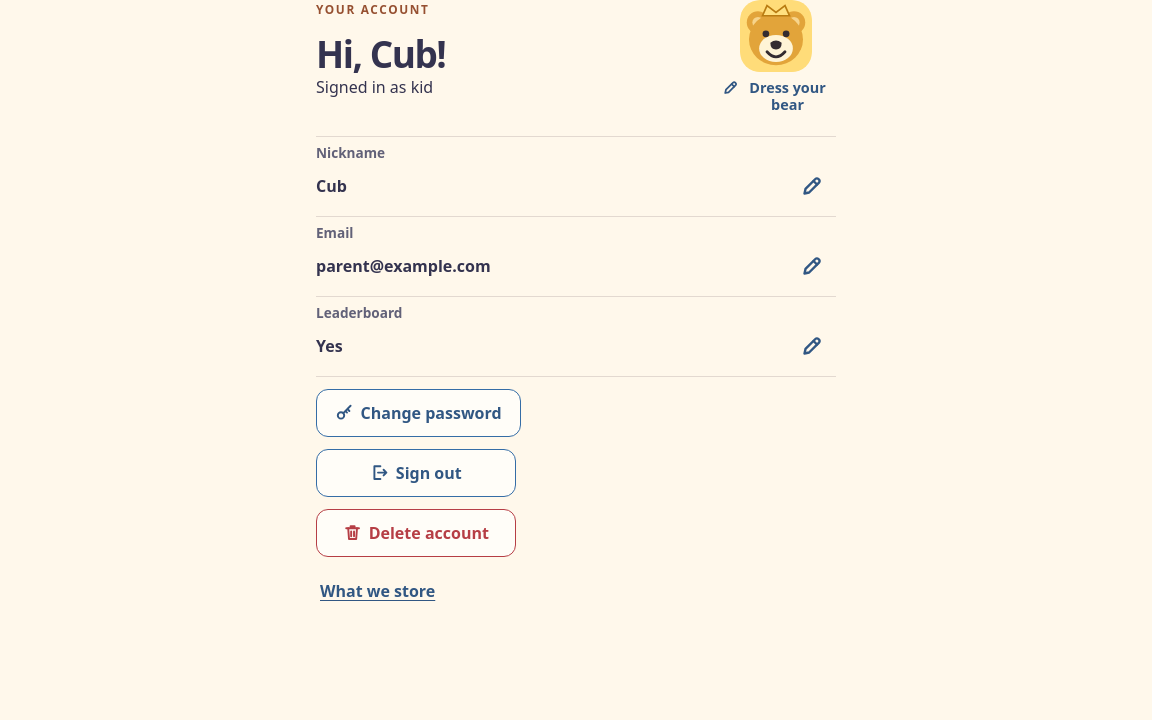
Test: SCRUM-281 edit windows › a tap on the dark background closes "Change nickname" like Cancel: nothing saved, focus back
This screenshot has width=1152, height=720.
Click the button named "Change nickname". click: (812, 186)
box: [788, 162, 836, 210]
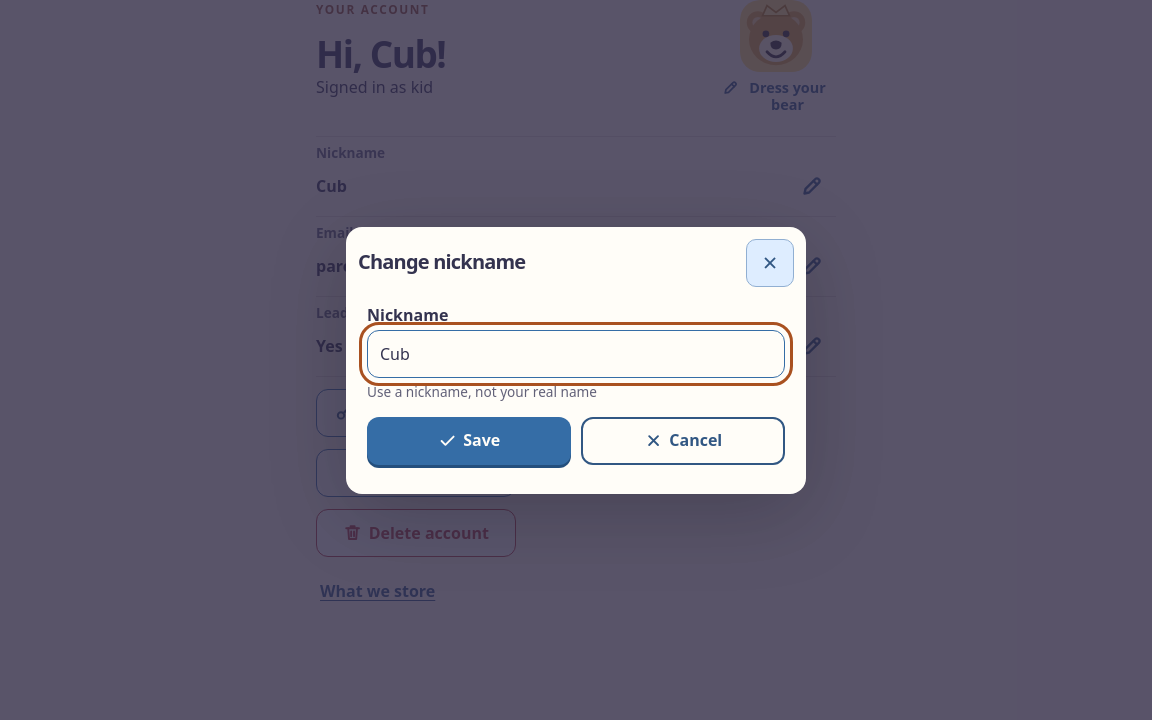
Replace the text in the field labelled "Nickname" with "38". click: (576, 354)
box: [367, 330, 785, 378]
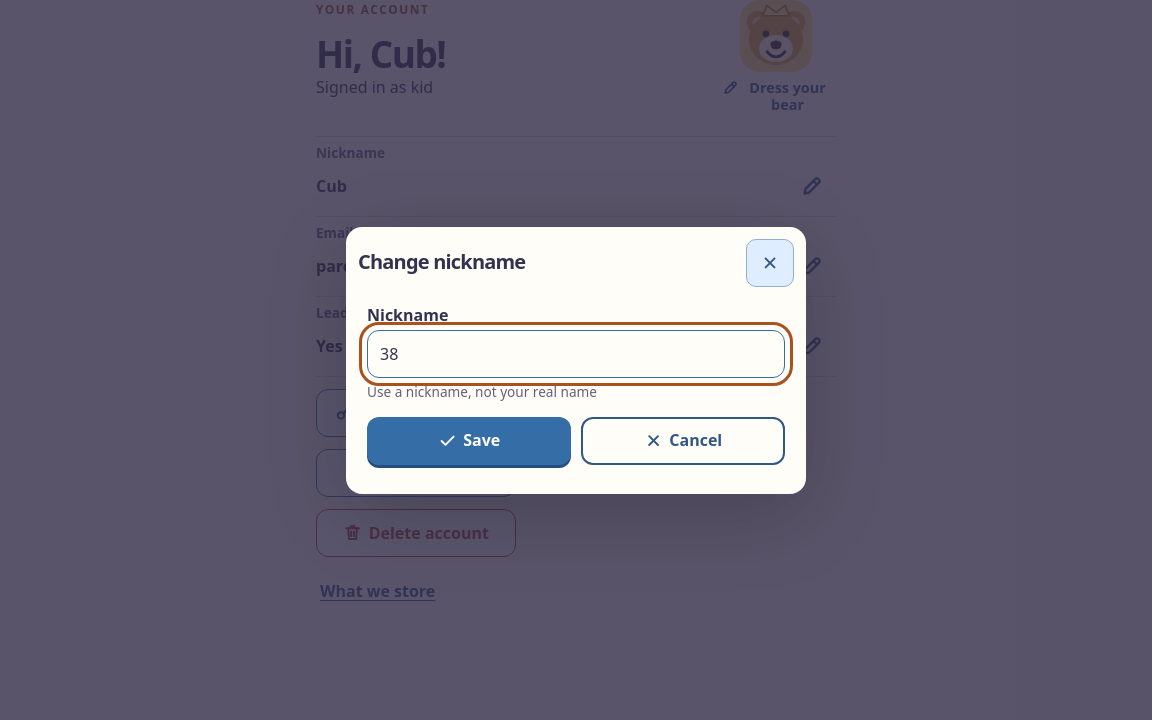
Press the mouse on the element with class "modal-backdrop" at (576, 360), box [0, 0, 1151, 719]
Click the element with class "modal-backdrop". click: (576, 360)
box: [0, 0, 1151, 719]
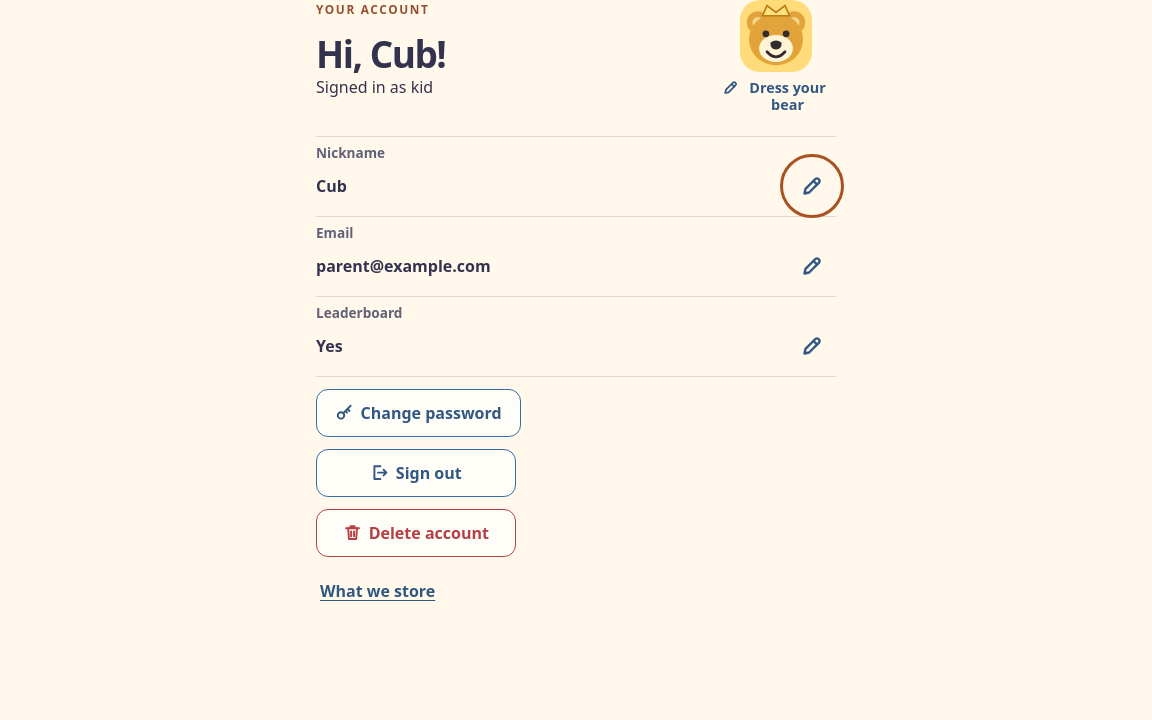
Now the dialog is gone
Click the button named "Change nickname". click: (812, 186)
box: [788, 162, 836, 210]
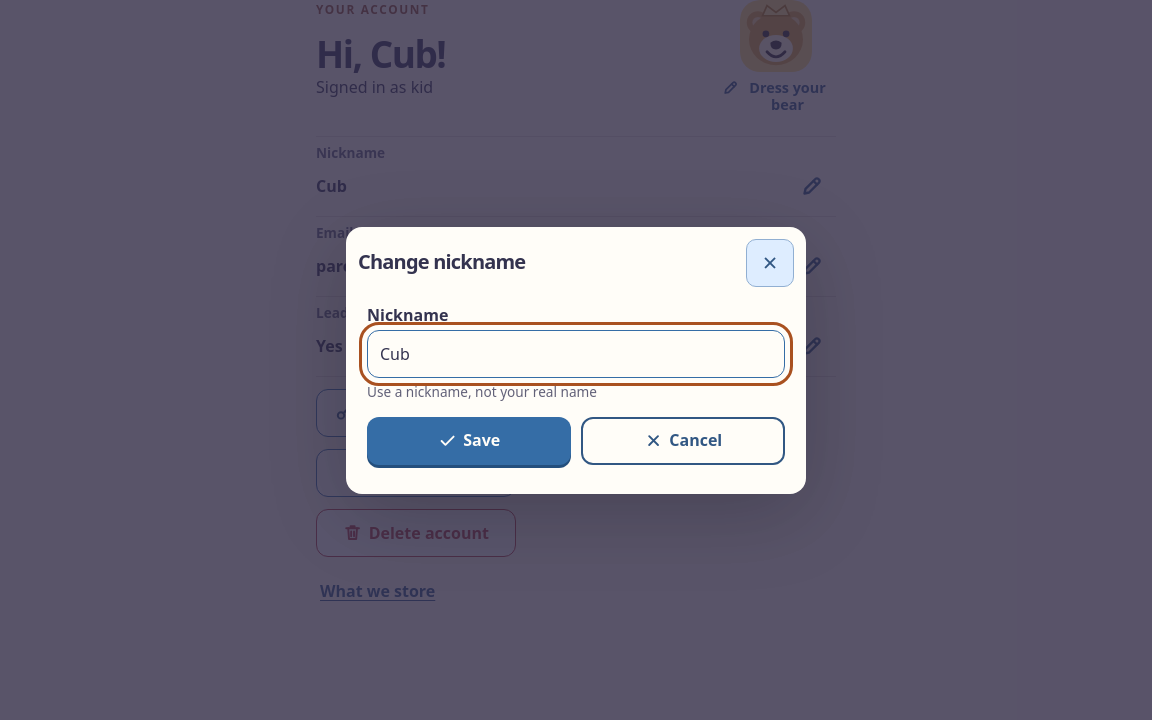
Now the field labelled "Nickname" does not hold "38", box [367, 330, 785, 378]
